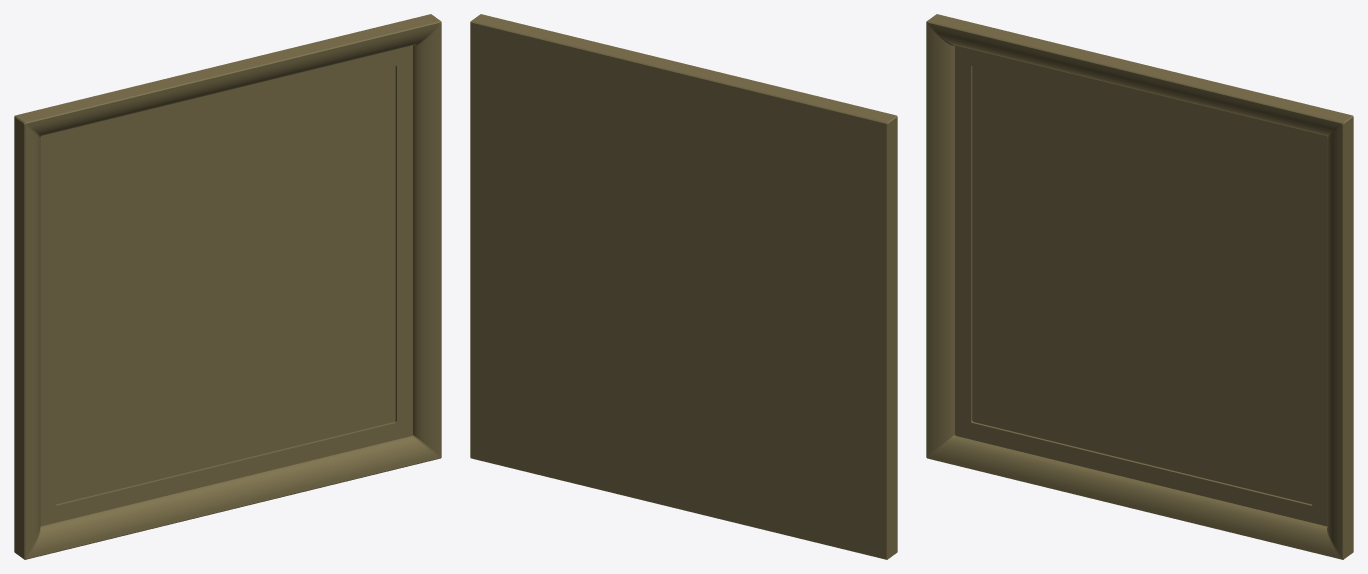
Rendered from frame_medium_square.glb.
3 views of the same model, side by side, from view 1: azimuth 30°, elevation 25°; view 2: azimuth 150°, elevation 25°; view 3: azimuth 330°, elevation 25° (orthographic).
Parts seen in each view (by area): view 1: Frame_03_Frame_Version_02_0.001; view 2: Frame_03_Frame_Version_02_0.001; view 3: Frame_03_Frame_Version_02_0.001.
Part boxes in pixels (x1,y1,x2,y2): Frame_03_Frame_Version_02_0.001: (14, 14, 441, 559); Frame_03_Frame_Version_02_0.001: (470, 14, 897, 559); Frame_03_Frame_Version_02_0.001: (926, 14, 1353, 559).
Size of the model in its own units: 1.54 by 1.54 by 0.0684.
